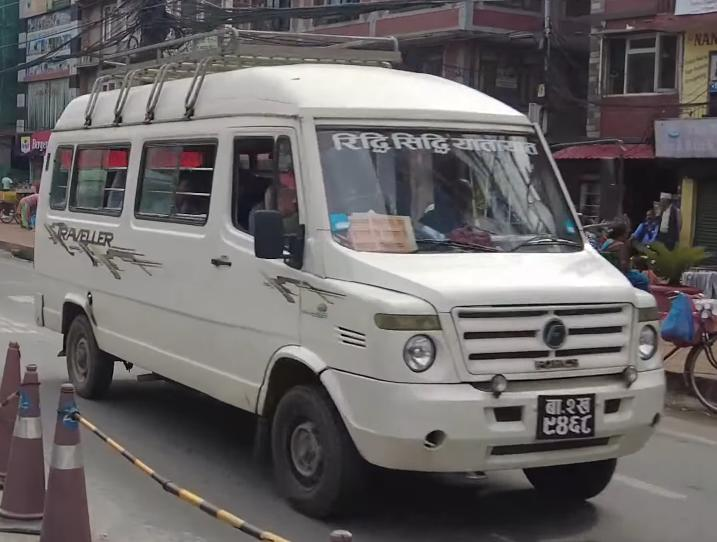micro_bus: (24, 46, 676, 521)
